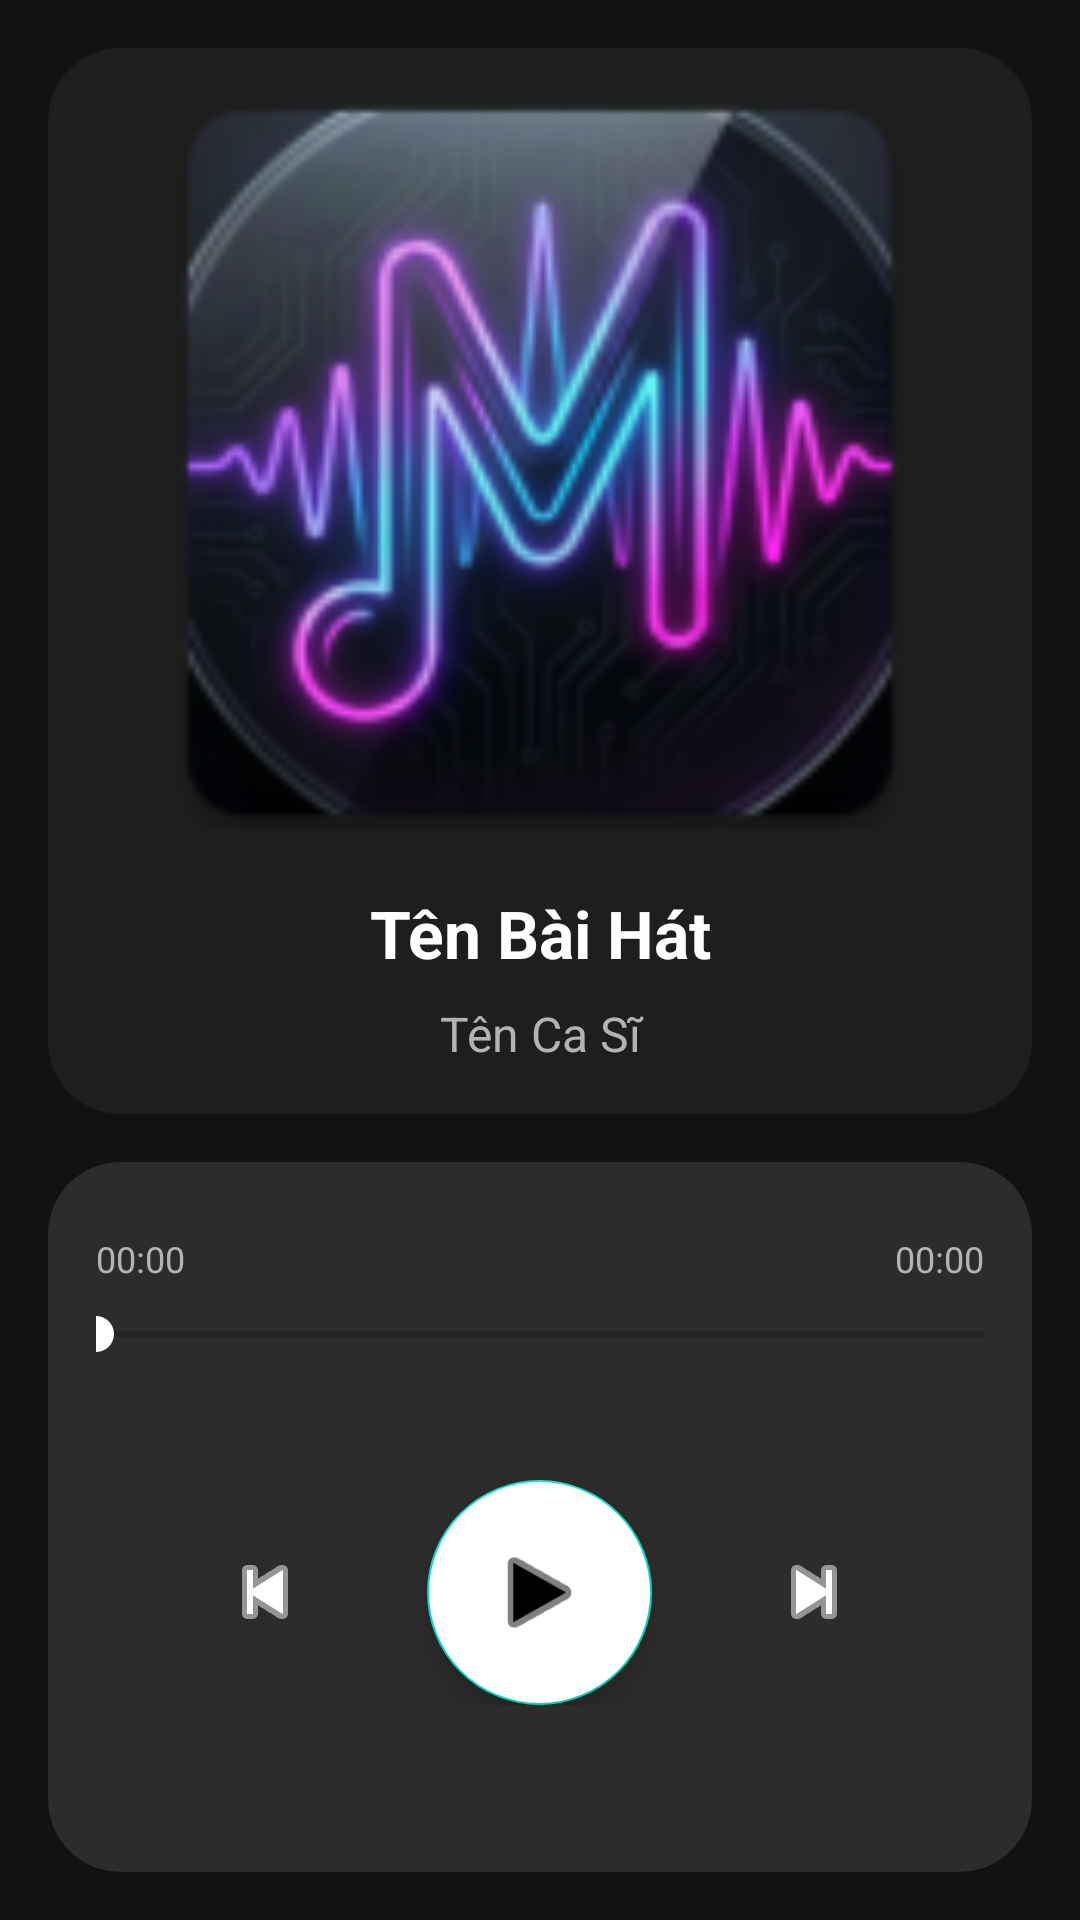

Point at icon controls on the screen. Image size 1080px x 1920px, points as (x=x, y=y).
next: (x=814, y=1592)
play: (x=539, y=1592)
previous: (x=265, y=1592)
